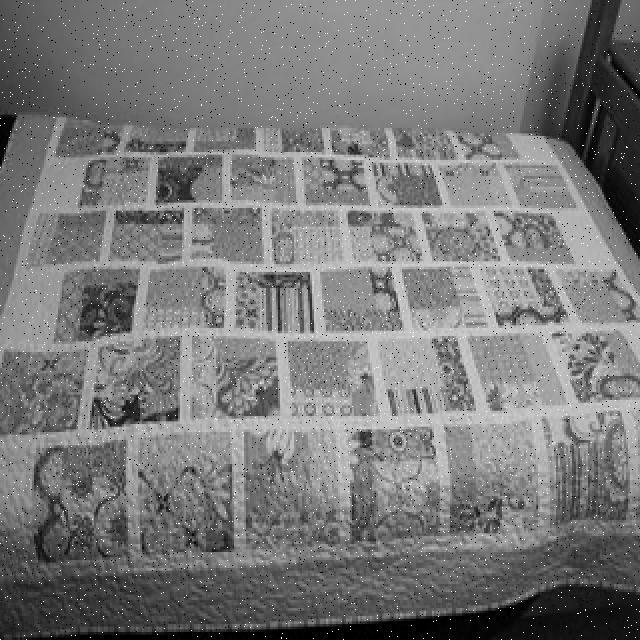bed: (8, 41, 640, 640)
